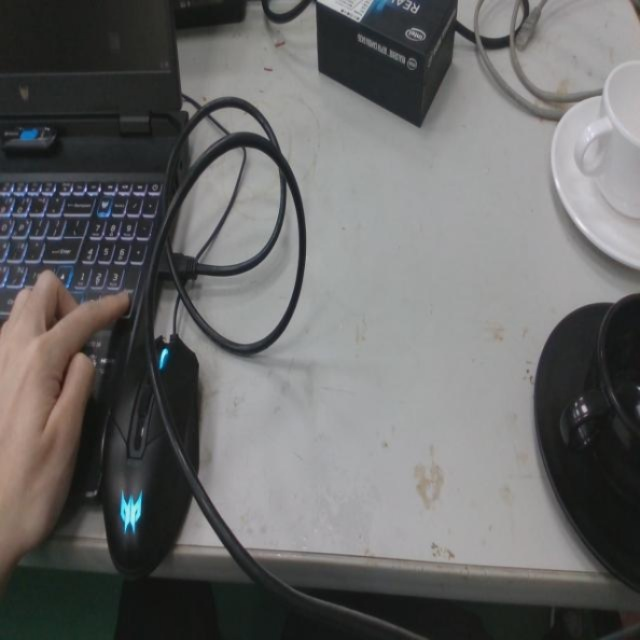black: (531, 288, 640, 600)
white: (548, 53, 640, 275)
